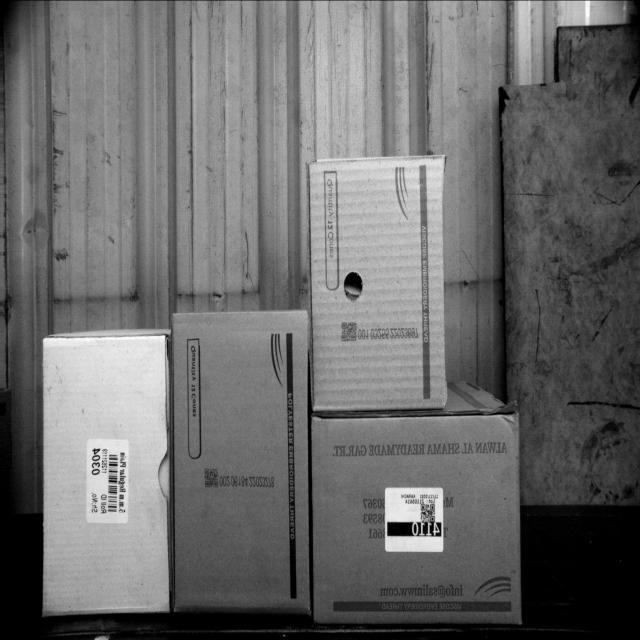cardboxes: (316, 410, 518, 626), (177, 306, 310, 613), (316, 147, 446, 410), (44, 335, 166, 611)
